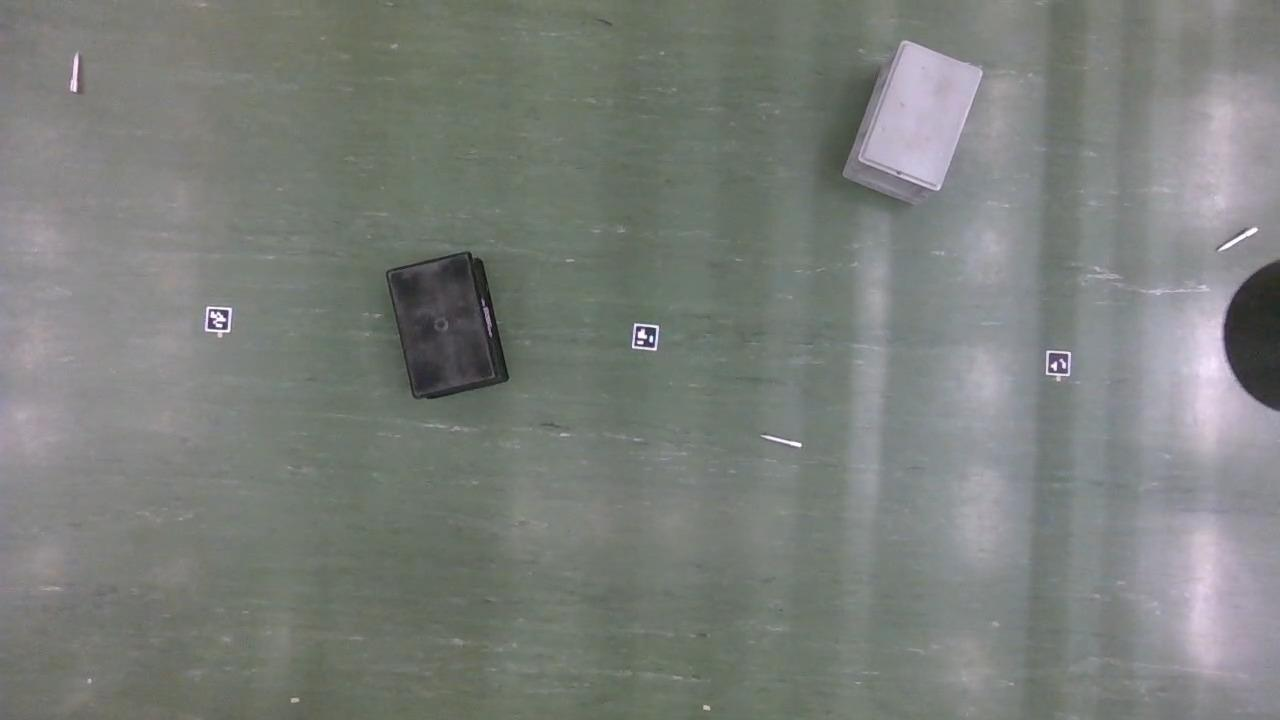probes: (1219, 228, 1257, 253), (764, 435, 801, 449), (72, 55, 81, 94)
rako: (841, 42, 983, 208), (386, 254, 509, 402)
